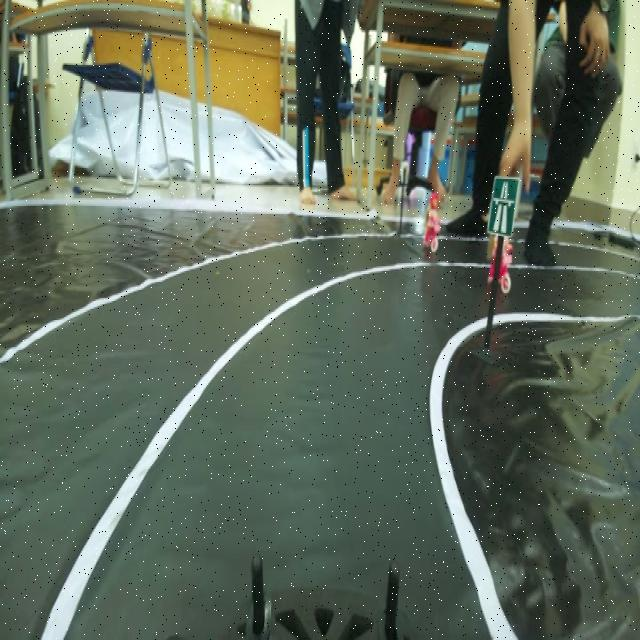highway_entry: (489, 165, 517, 237)
